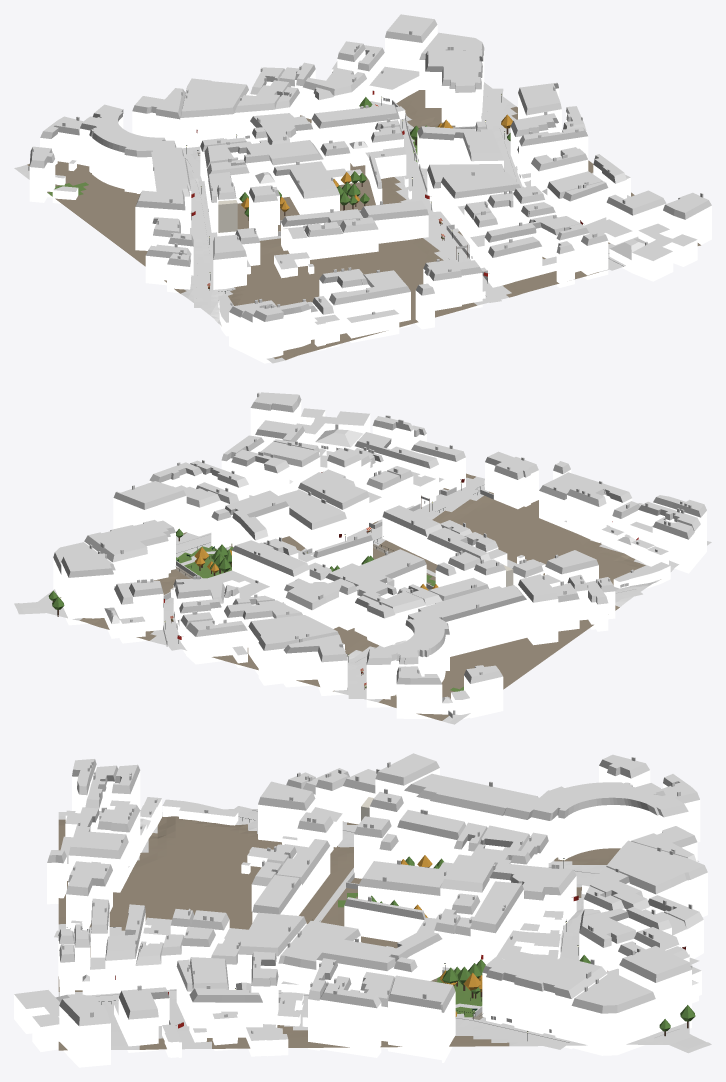
Rendered from zone_K4.glb.
The picture shows the model from 3 angles, top to bottom: view 1: azimuth 30°, elevation 25°; view 2: azimuth 150°, elevation 25°; view 3: azimuth 270°, elevation 25°; orthographic projection. The views are drawn at different scales.
Parts seen in each view (by area): view 1: zone_K4_batiments, zone_K4_terrain, zone_K4_sol_NOCOL, zone_K4_decor_NOCOL; view 2: zone_K4_batiments, zone_K4_terrain, zone_K4_sol_NOCOL, zone_K4_decor_NOCOL; view 3: zone_K4_batiments, zone_K4_terrain, zone_K4_sol_NOCOL, zone_K4_decor_NOCOL.
Boxes of the visible parts, box(x1,y1,x2,y2) form: zone_K4_batiments: box(28, 14, 711, 363); zone_K4_terrain: box(14, 82, 700, 363); zone_K4_sol_NOCOL: box(182, 88, 637, 307); zone_K4_decor_NOCOL: box(186, 94, 512, 293); zone_K4_batiments: box(53, 392, 706, 719); zone_K4_terrain: box(38, 451, 711, 724); zone_K4_sol_NOCOL: box(14, 452, 677, 698); zone_K4_decor_NOCOL: box(48, 481, 480, 662); zone_K4_batiments: box(14, 753, 707, 1067); zone_K4_terrain: box(58, 809, 689, 1050); zone_K4_sol_NOCOL: box(54, 806, 711, 1053); zone_K4_decor_NOCOL: box(67, 817, 695, 1040).
Bounding box in the file's own units: 217 × 32.83 × 232.
